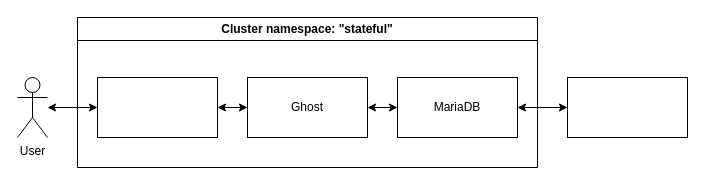
Some shapes in this 705 by 185 pixel diagram are drawn without their labels. Here are the shapes that lost their labels. From the top down, the centre of each, then its label:
At point (157, 107): "nginx".
At point (627, 107): "NFS Server".
